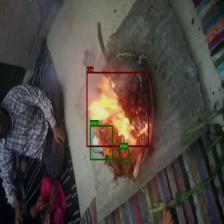fire: (86, 72, 149, 146)
